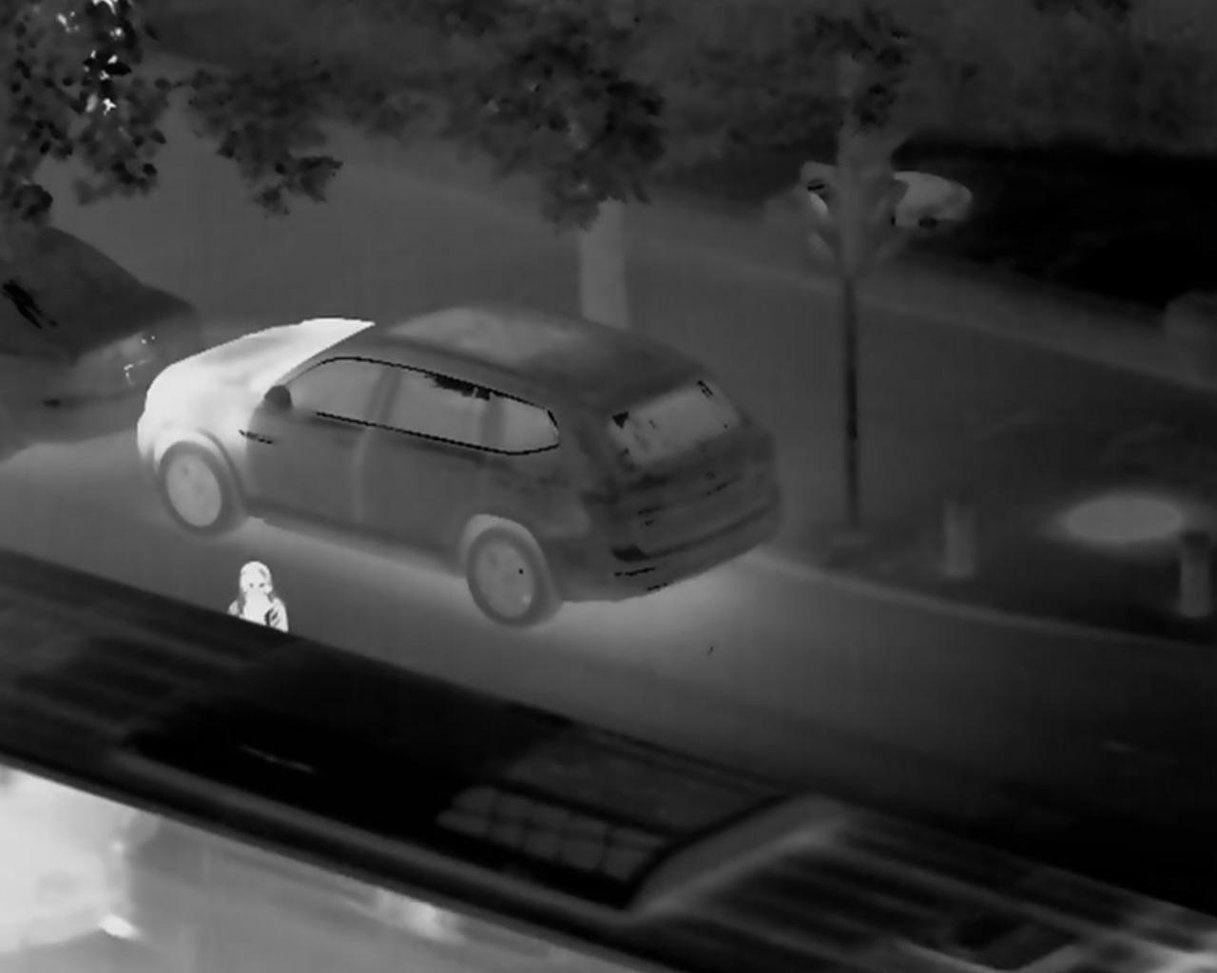person: (222, 556, 289, 635)
